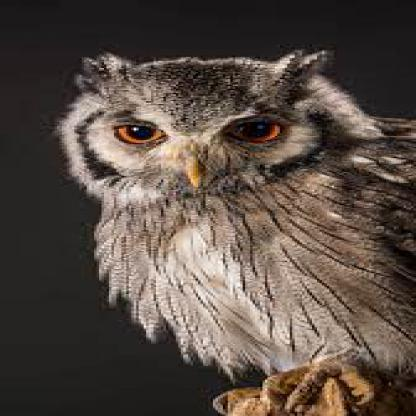owl: (72, 16, 413, 414)
